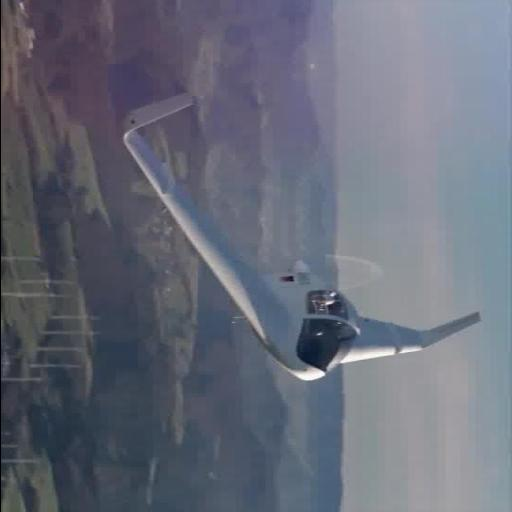uav: (106, 94, 488, 386)
